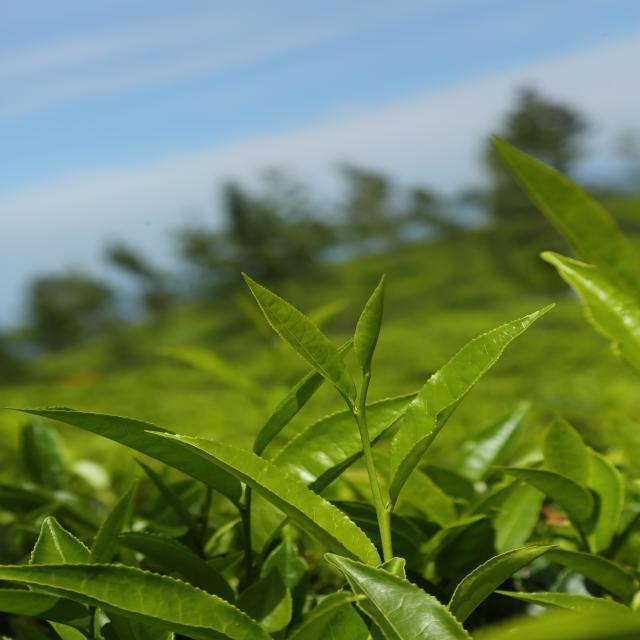Stem: (353, 409, 369, 446), (241, 510, 251, 531)
